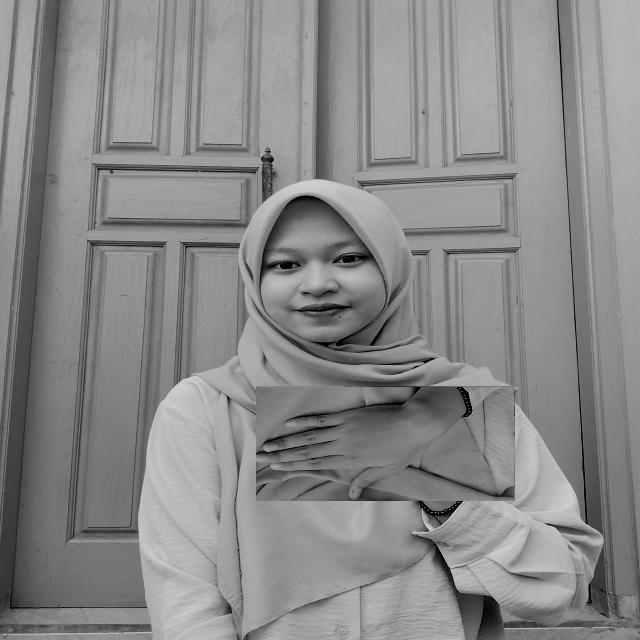tolong: (256, 386, 515, 501)
